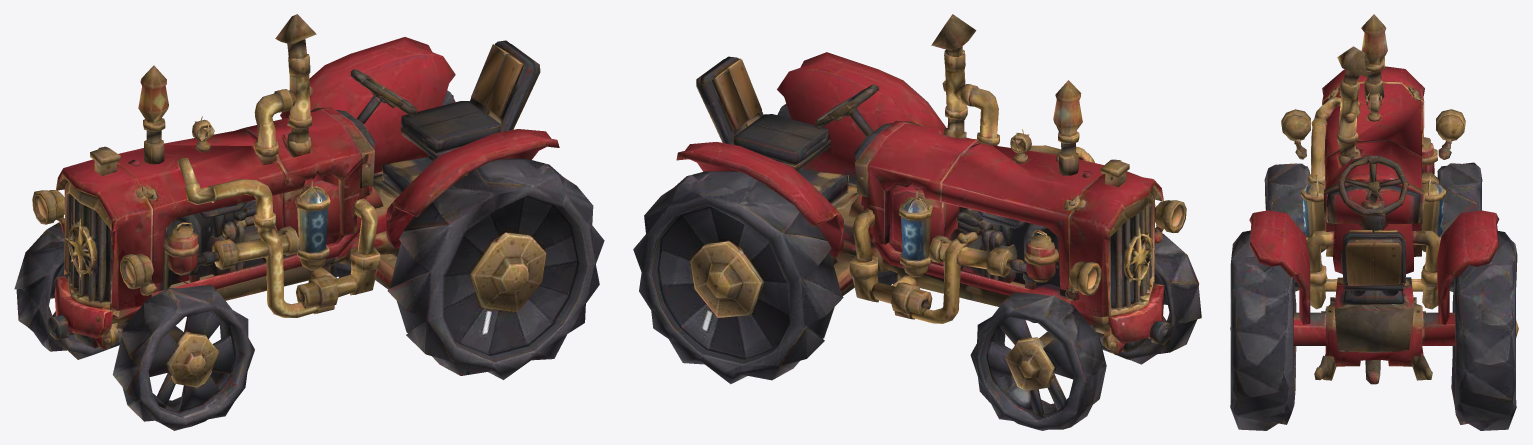
The model's file is tractor.glb.
3 renders of one model, left to right at view 1: azimuth 30°, elevation 25°; view 2: azimuth 150°, elevation 25°; view 3: azimuth 270°, elevation 25°, orthographic. The views are drawn at different scales.
Bounding box in the file's own units: 0.9536 × 0.6667 × 0.5609.
Materials: 1 (1 with a texture image).
